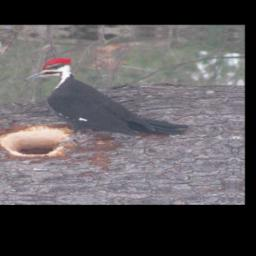Woodpecker: (20, 54, 195, 155)
